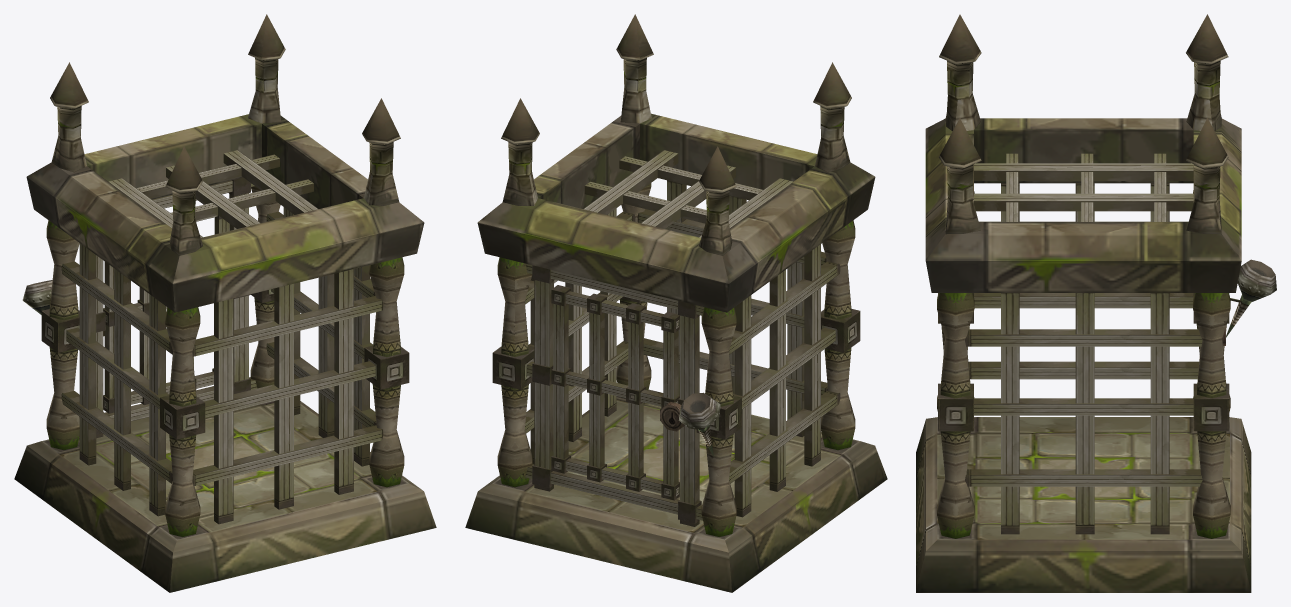
File: Lv6_AncientPrison02.FBX
3 renders of one model, left to right at view 1: azimuth 30°, elevation 25°; view 2: azimuth 150°, elevation 25°; view 3: azimuth 270°, elevation 25°, orthographic. The views are drawn at different scales.
Visible parts, largest first — view 1: Lv6_AncientPrison02; view 2: Lv6_AncientPrison02; view 3: Lv6_AncientPrison02.
Part boxes in pixels (bbox=[...]): Lv6_AncientPrison02: bbox=[14, 14, 436, 592]; Lv6_AncientPrison02: bbox=[465, 14, 887, 592]; Lv6_AncientPrison02: bbox=[916, 14, 1276, 592].
Size of the model in its own units: 169 by 257 by 184.
Materials: 1 (1 with a texture image).
